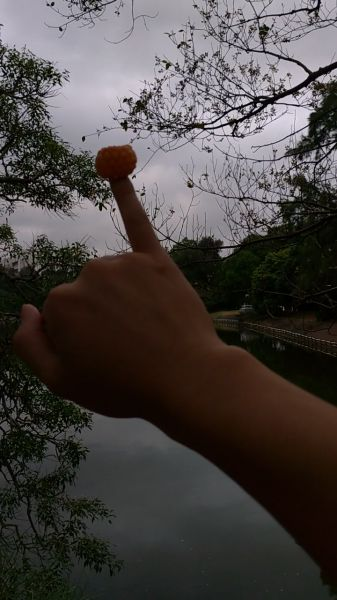eggs: (94, 145, 137, 177)
